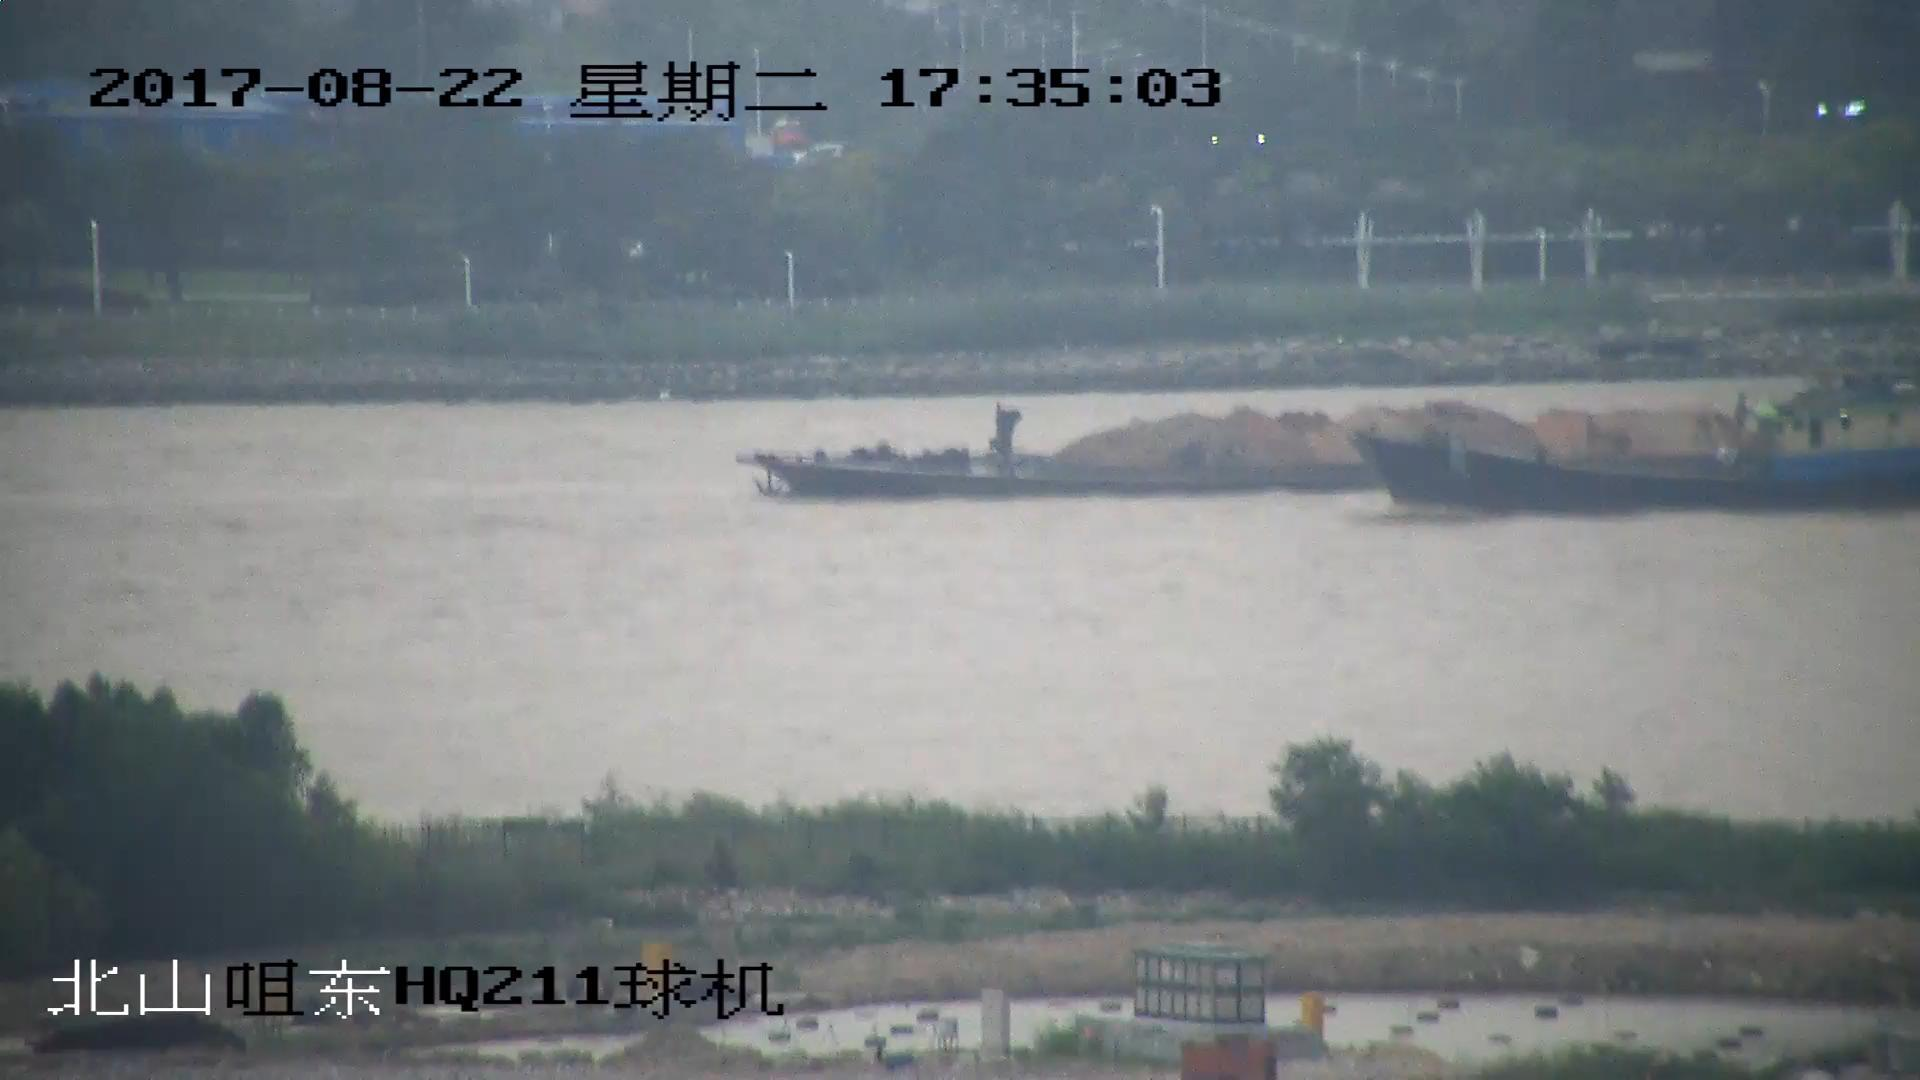Ship: (746, 392, 1920, 498), (1367, 386, 1920, 516)
